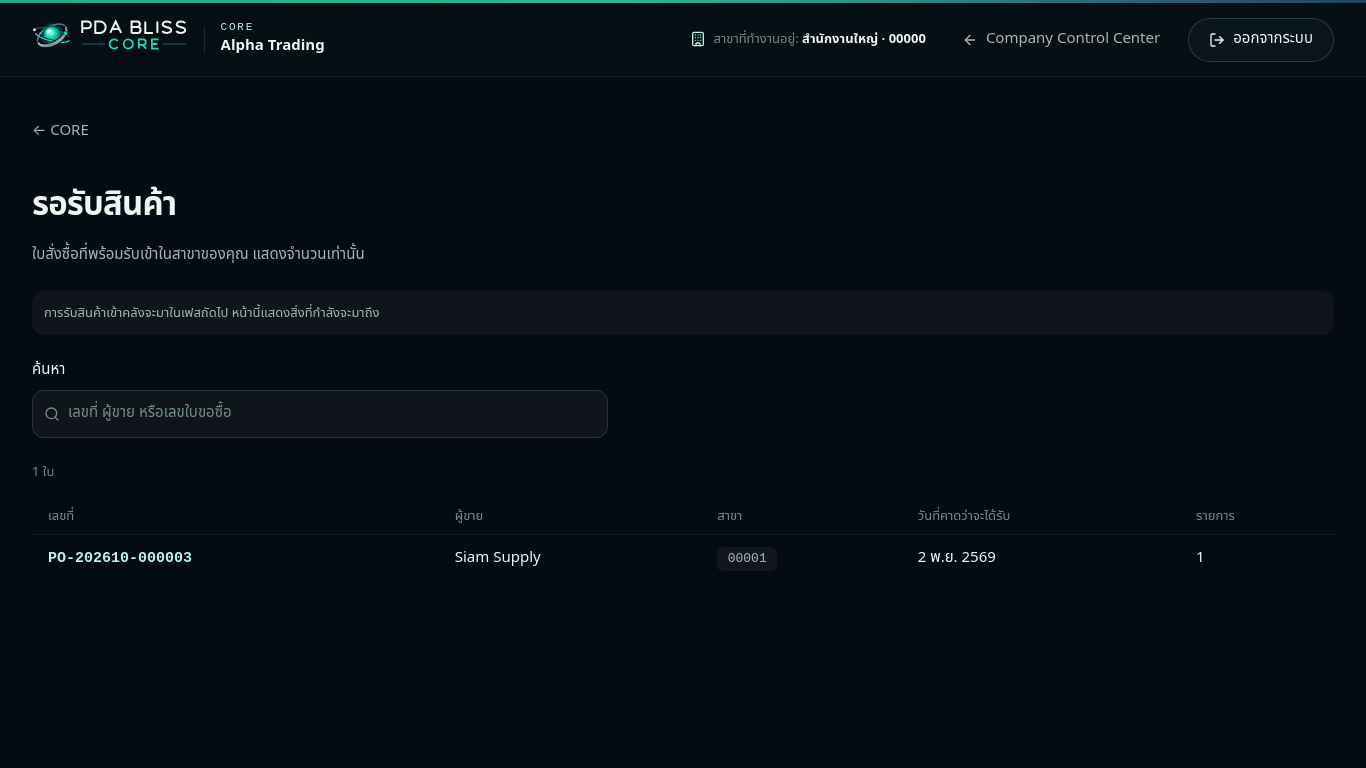
Deposits and pending receive (EP30) › Warehouse sees quantities only — no money label or amount on the page (TH)
The image size is (1366, 768).
Click the link "PO-202610-000003".
click(120, 559)  # box [48,548,192,570]
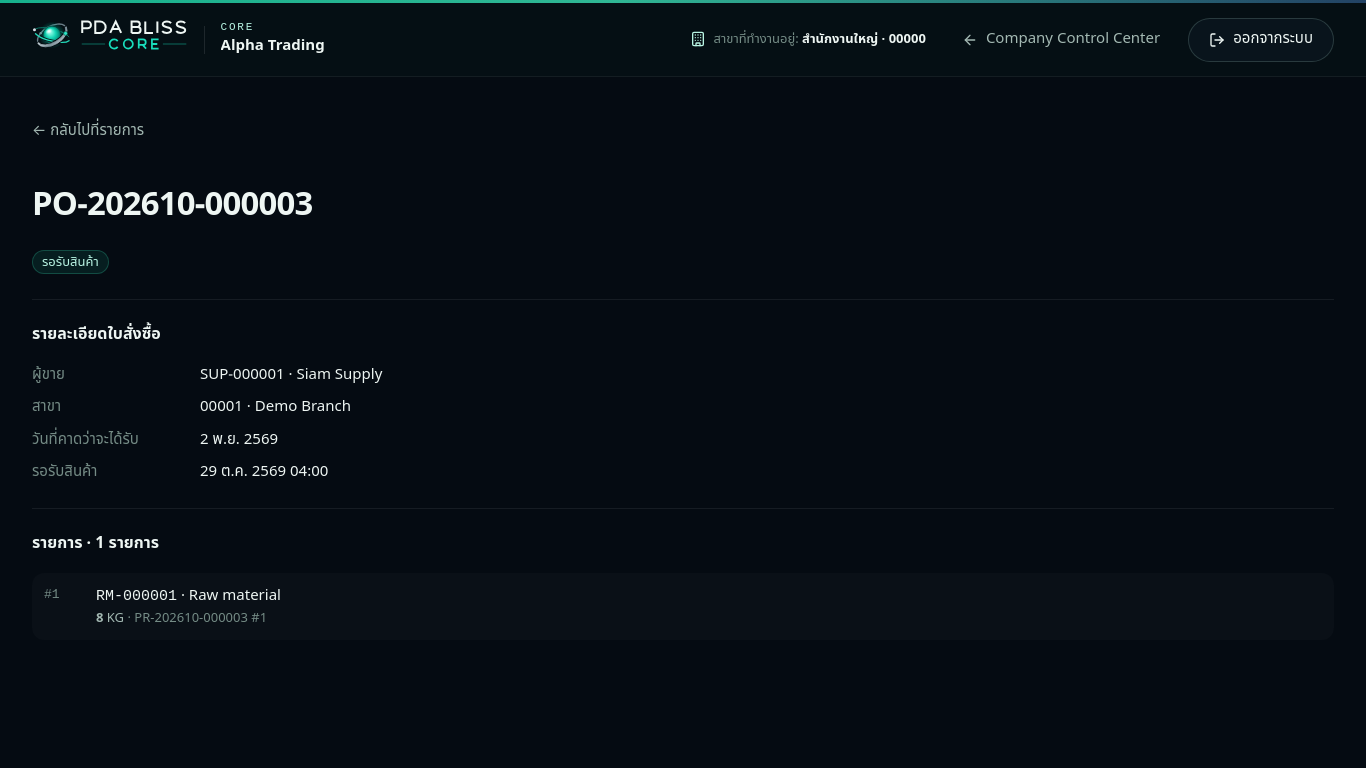
Check: the heading "PO-202610-000003" is shown, box [32,177,312,234]
Check: the text "รอรับสินค้า" below "PO-202610-000003" is shown, box [42,252,99,272]
Check: the text "RM-000001" is shown, box [96,588,177,604]
